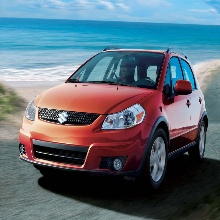no damage: (17, 45, 208, 188)
